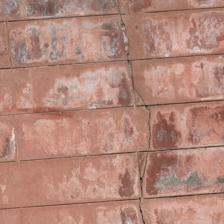Crack: (0, 0, 90, 75), (48, 22, 104, 134)
